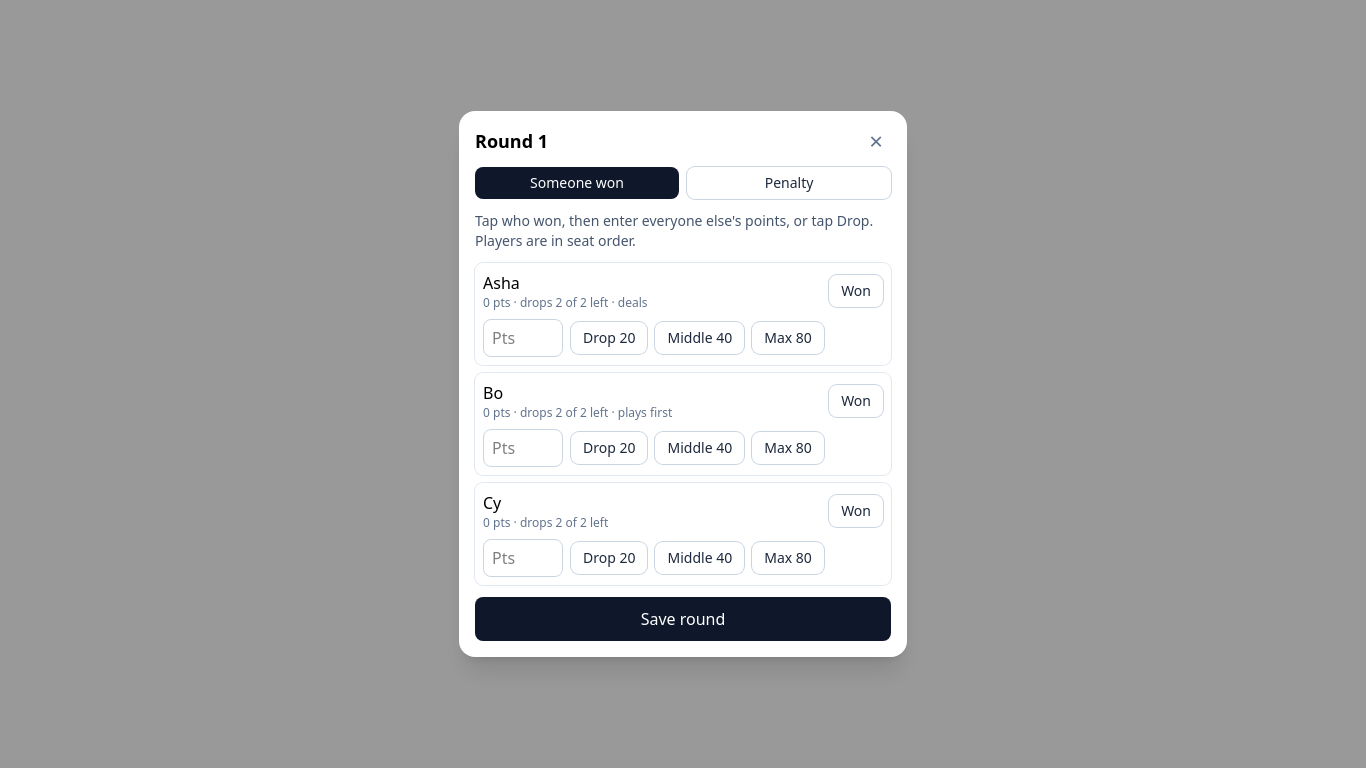
entering a penalty round › asks who made the mistake, and for the points, without saving
Click the radio button labelled "Penalty": x=789, y=183 [687,167,891,199]
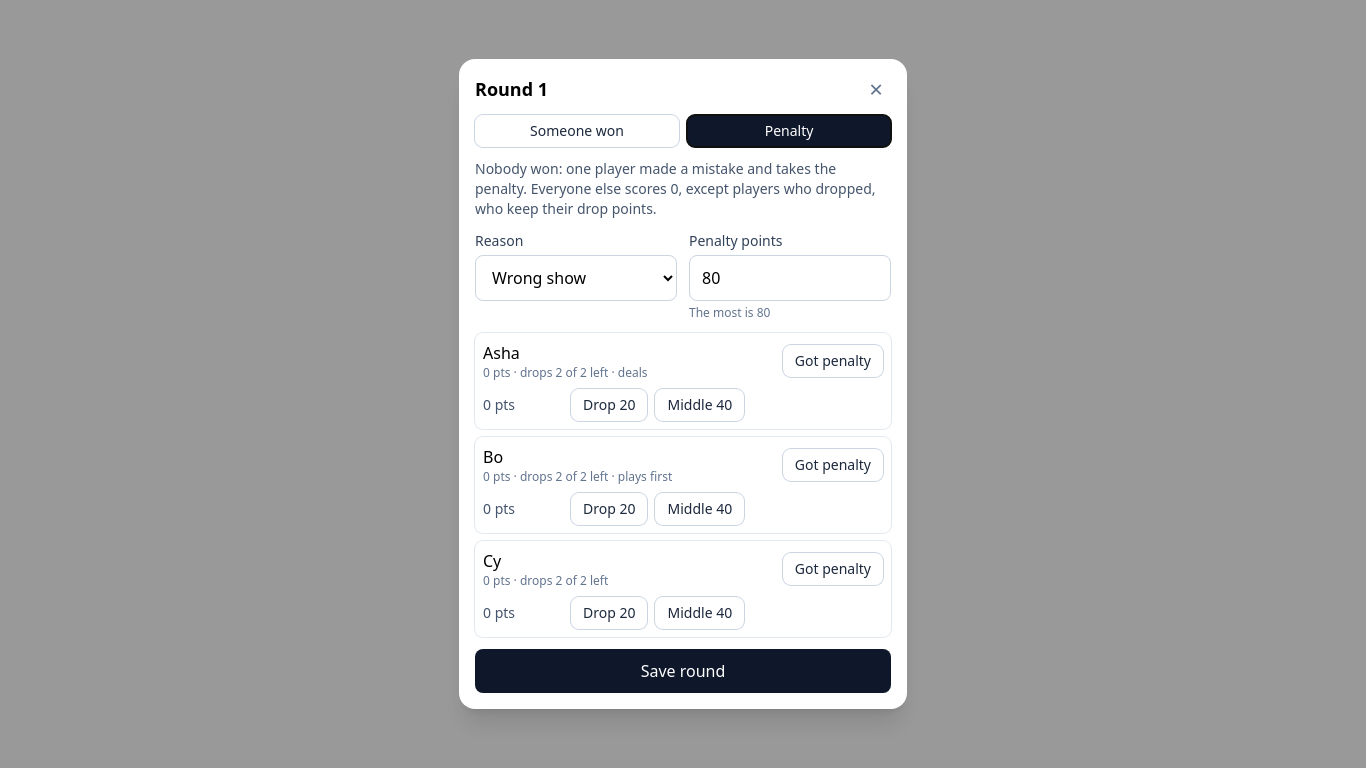
Click the button "Save round": x=683, y=671 [475,649,891,693]
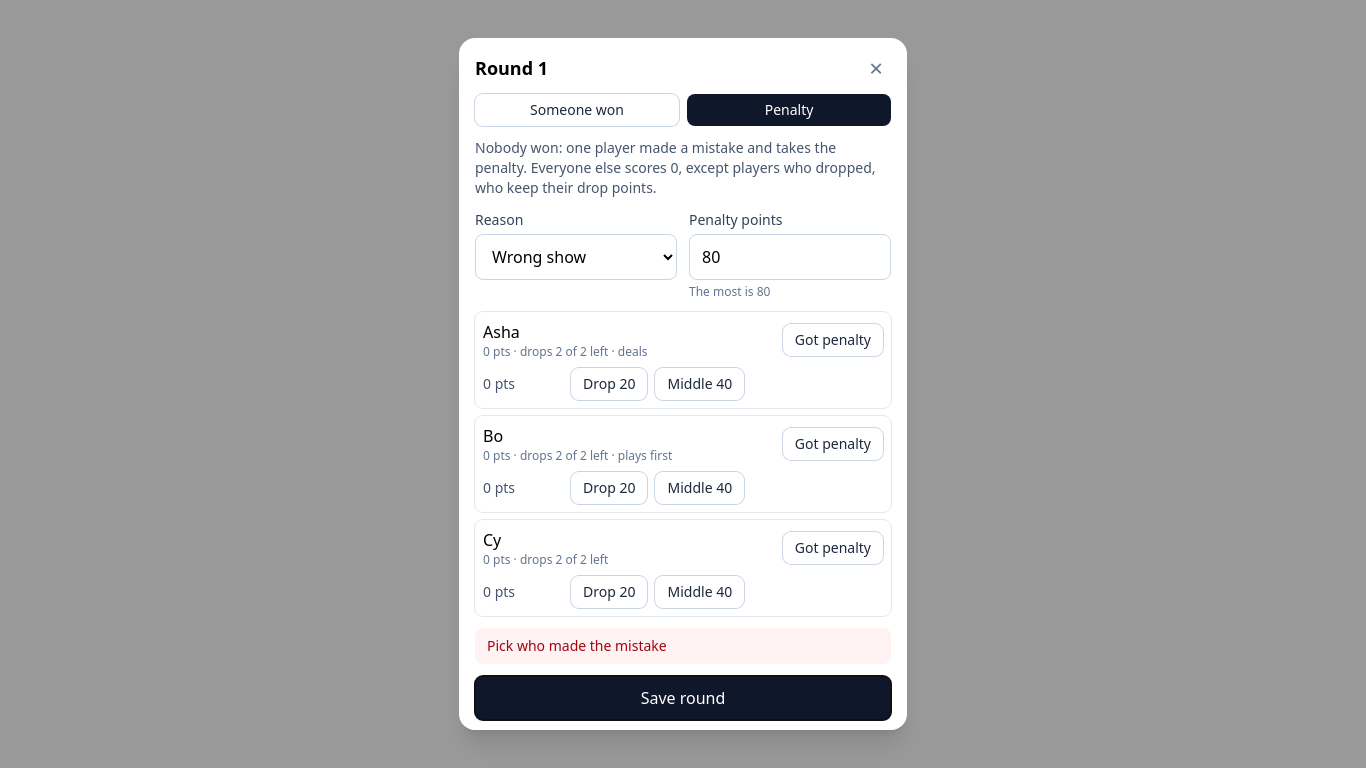
Expected: the message reads "Pick who made the mistake", [487,636,667,655]
Click the button "Got penalty" next to "· plays first": x=833, y=444 [783,428,883,460]
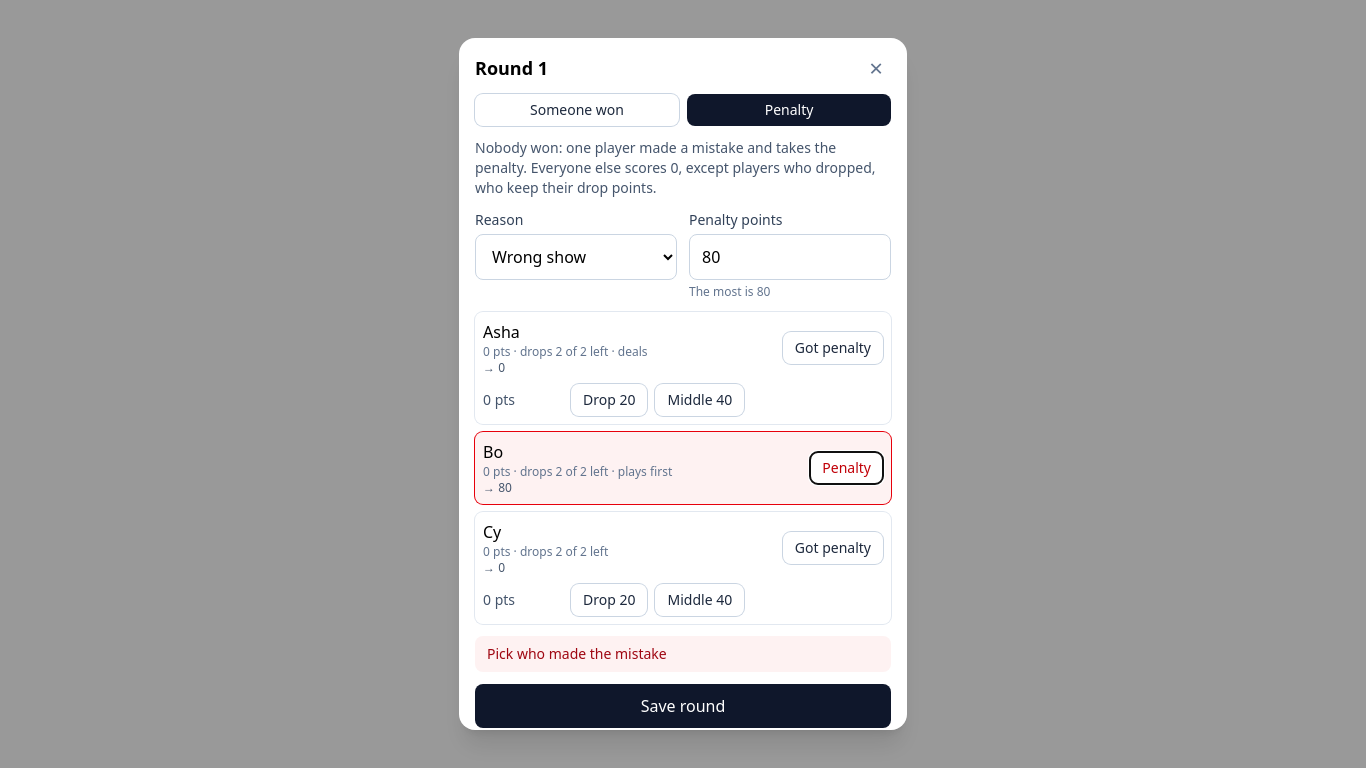
Clear the field labelled "Penalty points The most is 80": x=790, y=257 [689,234,891,280]
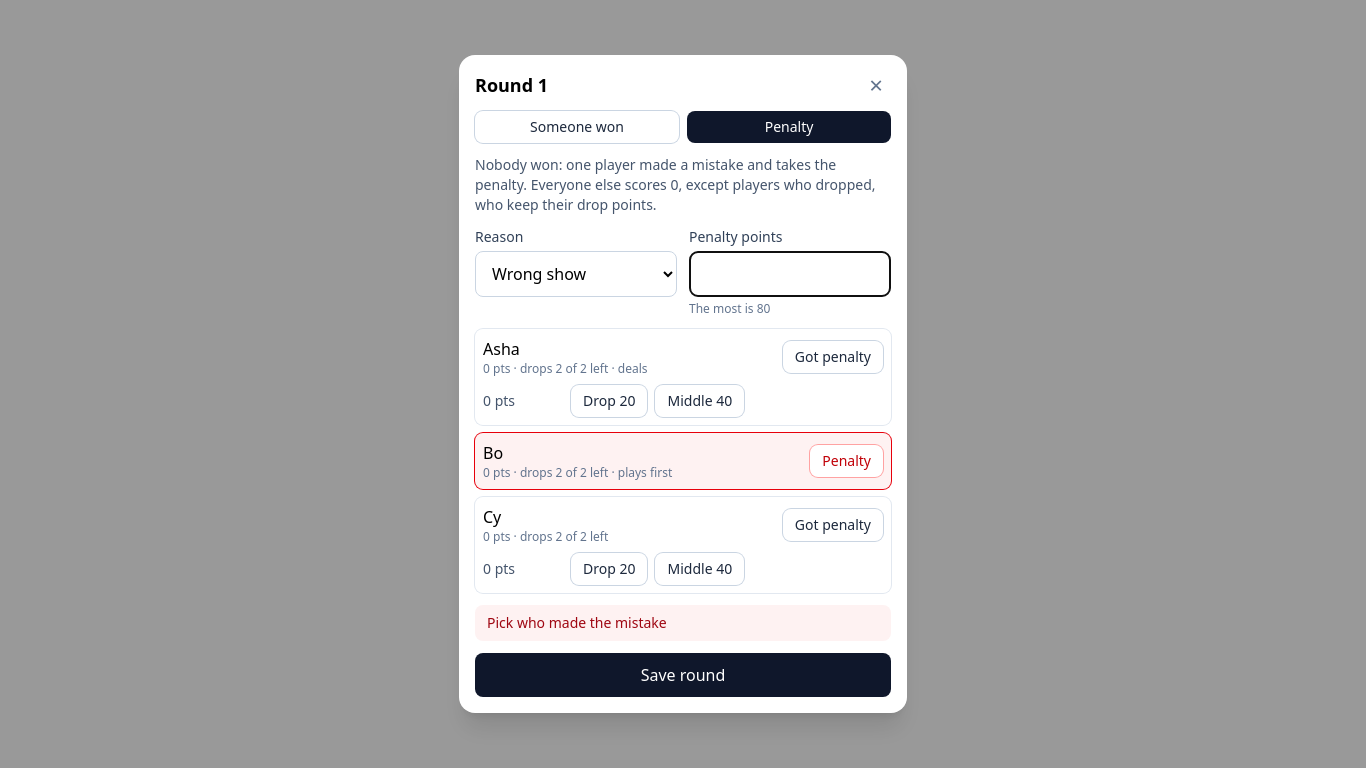
Click the button "Save round": x=683, y=675 [475,653,891,697]
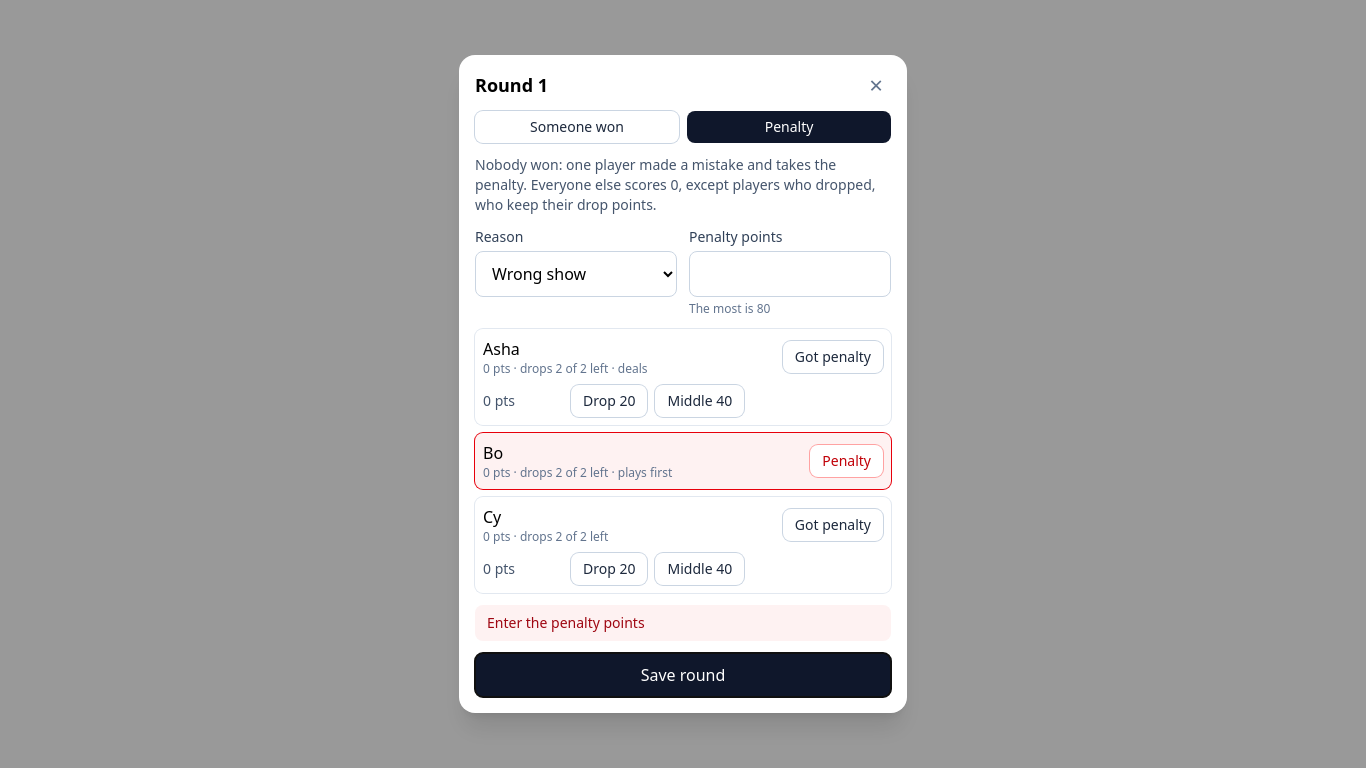
Expected: the message reads "Enter the penalty points", [487,613,645,632]
